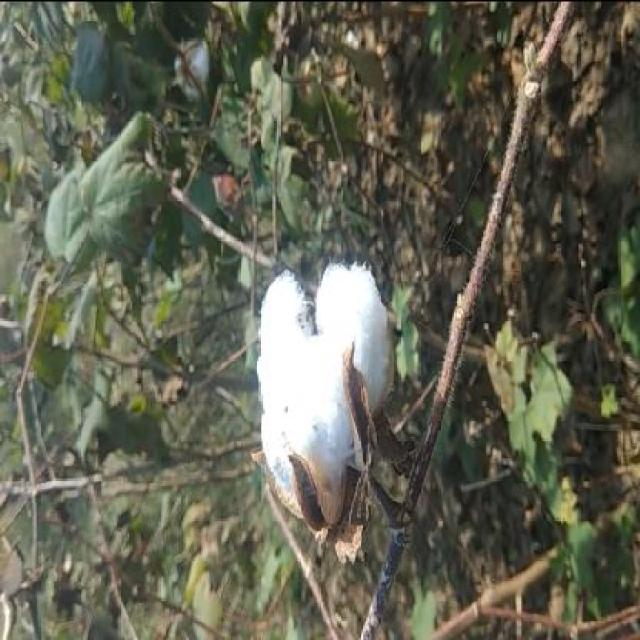cotton_ready: (233, 198, 445, 598)
